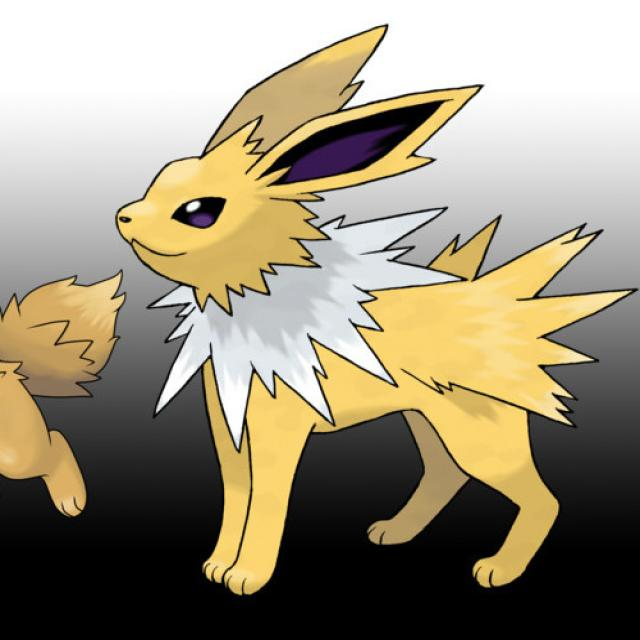Jolteon: (119, 31, 566, 598)
